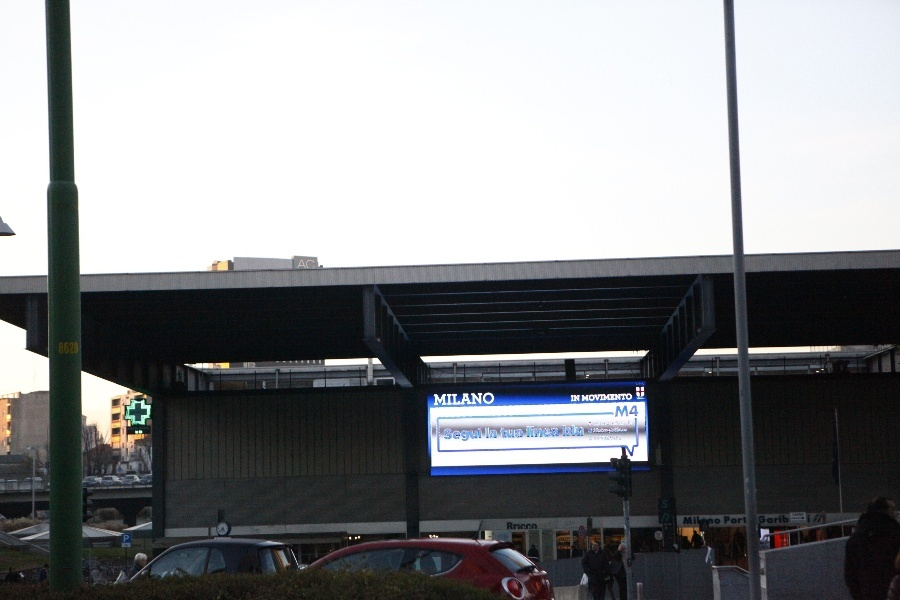text: (661, 500, 672, 526), (433, 392, 448, 407), (449, 392, 464, 407), (465, 392, 480, 407), (481, 392, 495, 407), (449, 428, 464, 442), (465, 428, 480, 442), (529, 426, 544, 438), (65, 341, 78, 354), (625, 406, 639, 418), (545, 426, 559, 438), (562, 425, 576, 437), (593, 393, 608, 402), (609, 393, 624, 402), (769, 515, 784, 524), (305, 258, 316, 270), (485, 427, 496, 439), (501, 428, 512, 439), (513, 428, 524, 439), (513, 523, 528, 531), (817, 515, 832, 523), (724, 516, 736, 525), (593, 420, 608, 427), (609, 420, 624, 427), (581, 393, 592, 402), (689, 516, 700, 525), (593, 428, 608, 434), (609, 428, 624, 434), (593, 436, 608, 442), (737, 516, 747, 525), (617, 406, 624, 418), (577, 425, 584, 437), (759, 515, 768, 524), (807, 515, 816, 524), (625, 393, 633, 402), (529, 523, 538, 531), (708, 519, 720, 525), (610, 436, 624, 441), (59, 341, 64, 354), (625, 420, 633, 427), (444, 428, 448, 442), (300, 258, 304, 270), (506, 523, 512, 531), (570, 395, 576, 402), (123, 535, 128, 543), (684, 516, 688, 525), (785, 515, 789, 524), (601, 437, 608, 441), (791, 520, 800, 523), (526, 426, 528, 438), (792, 513, 800, 516), (577, 395, 580, 402), (625, 428, 628, 434), (801, 520, 806, 523), (481, 428, 482, 442), (641, 397, 645, 400), (497, 427, 498, 439), (637, 397, 640, 400), (801, 513, 804, 516)
